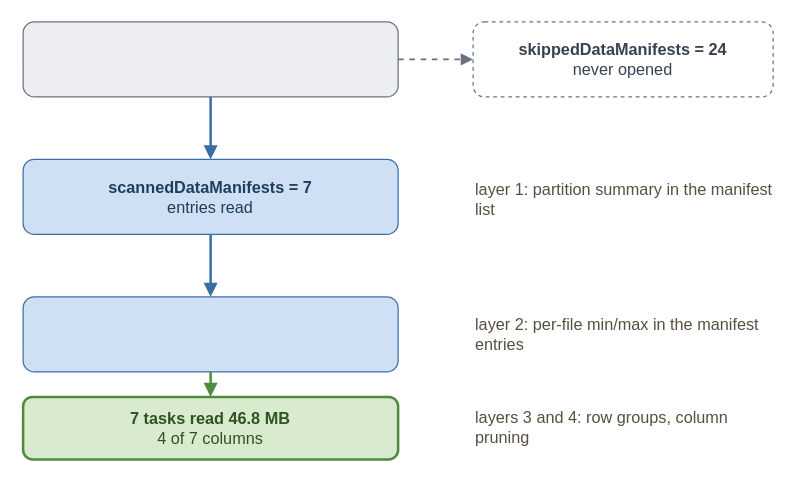
This 795x483 diagram has some shape labels left out. The shapes that lost their labels are listed below. From the top down, each one's centre as x and y in pixels, then its label:
(210,59): totalDataManifest = 31 one manifest per daily commit
(210,334): resultDataFiles = 7 243.5 MB, skippedDataFiles = 0
